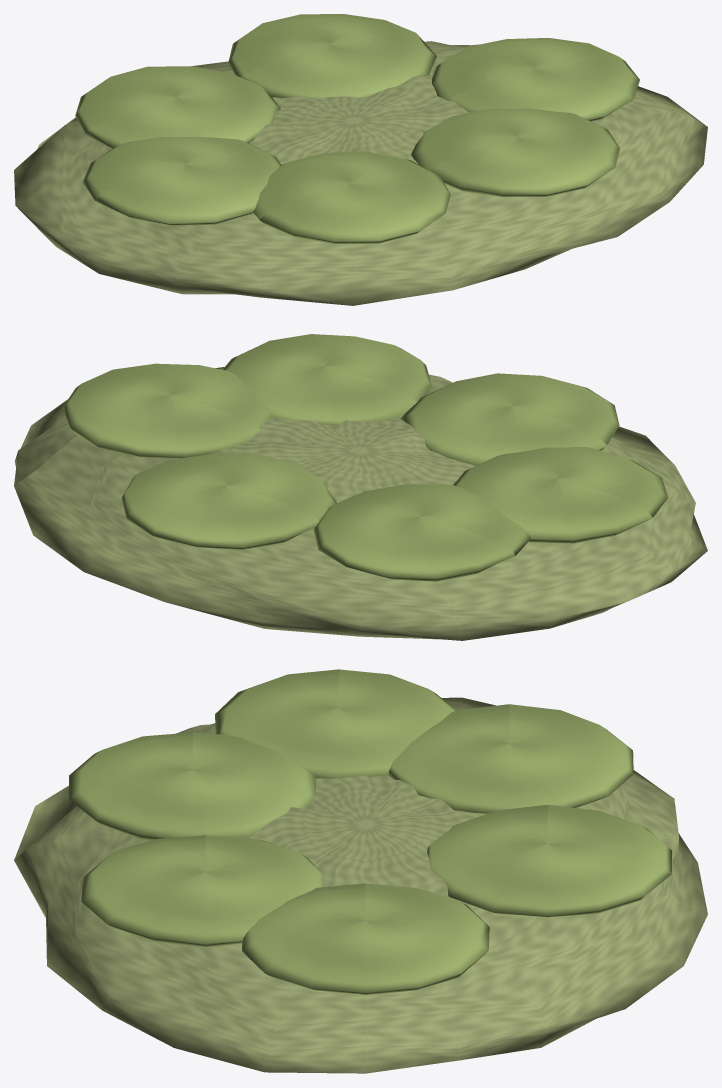
The model's file is floating_algae_mat_swamp_and_mangrove_22632.glb.
The picture shows the model from 3 angles, top to bottom: view 1: azimuth 30°, elevation 25°; view 2: azimuth 150°, elevation 25°; view 3: azimuth 270°, elevation 25°; orthographic projection. The views are drawn at different scales.
Parts seen in each view (by area): view 1: floating-algae; view 2: floating-algae; view 3: floating-algae.
Boxes of the visible parts, <box> form: floating-algae: <box>14,14,707,305</box>; floating-algae: <box>14,334,707,640</box>; floating-algae: <box>14,669,707,1073</box>.
Size of the model in its own units: 1.35 by 0.1527 by 1.1.
Materials: 2 (2 with a texture image).
